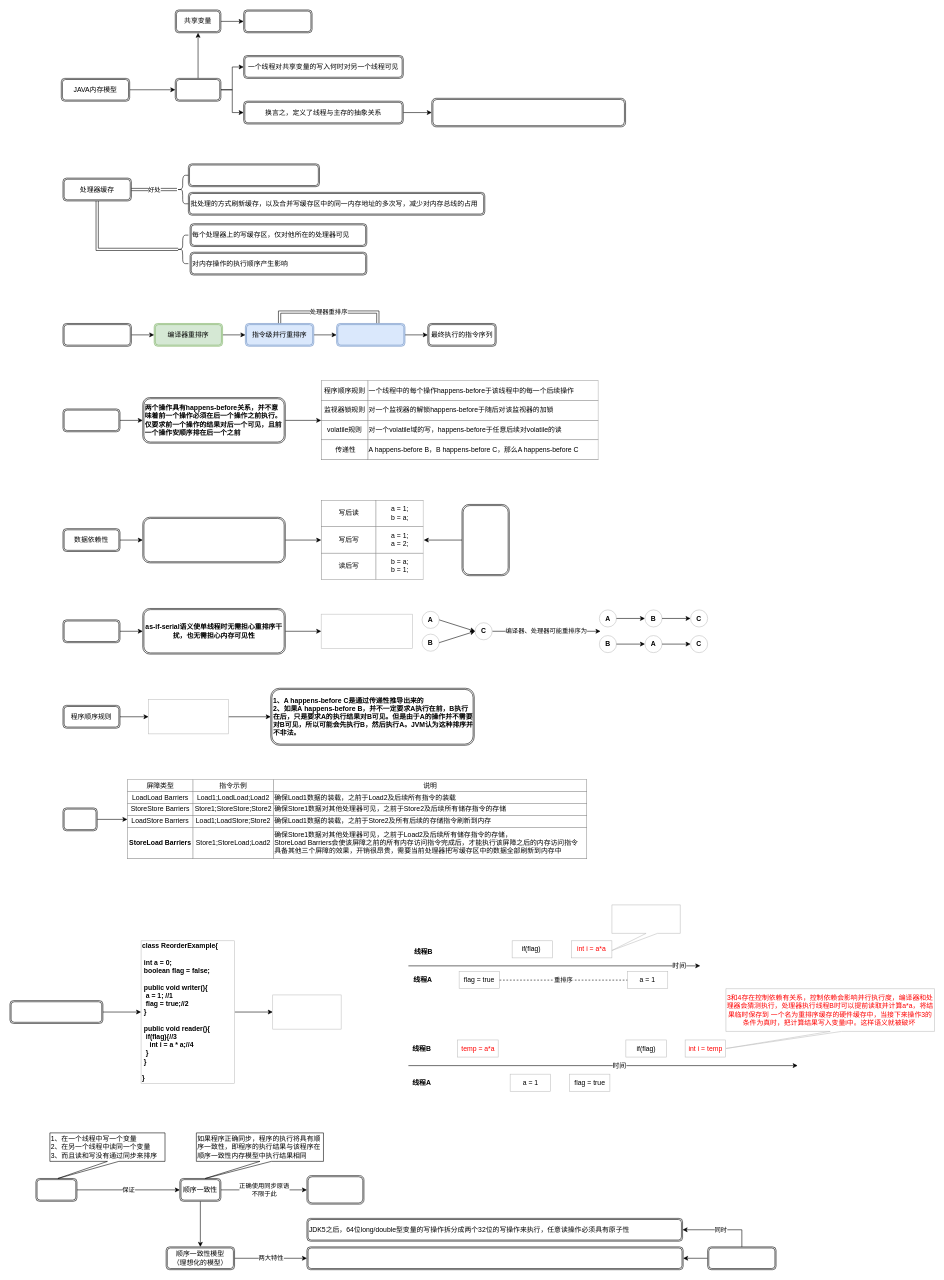
The diagram is 944 pixels wide and 1280 high, and some of its shapes have lost their labels. The shapes that lost their labels are listed below. From the top down, each one's centre as x and y in pixels, then its label:
At (x=277, y=21): "实例、数组、静态域".
At (x=198, y=89): "作用".
At (x=528, y=112): "线程之间的共享变量储存在主内存中，每个线程都有一个私有的本地内存，本地内存储存了线程可以读、写共享变量的副本".
At (x=253, y=175): "避免由于处理器停顿导致写入数据延迟".
At (x=96, y=334): "源代码".
At (x=370, y=334): "内存系统重排序".
At (x=91, y=420): "happens-before".
At (x=213, y=540): "这里所说的数据依赖性仅针对单个处理器中执行的指令序列和单线程中执行的操作，不同处理器之间和不同线程之间的数据依赖性不被编译器和处理器考虑".
At (x=485, y=540): "前边每两个操作顺序交换，则执行结果发生改变".
At (x=91, y=631): "as-if-serial".
At (x=366, y=631): "double pi = 3.14;//A dourble r = 1.0;//B dourble area = pi * r * r;//C".
At (x=188, y=716): "A happens-before B; B happens-before C; A happens-before C;".
At (x=79, y=819): "内存屏障".
At (x=645, y=927): "此时变量a还没有被线程A写入，语义被破坏".
At (x=56, y=1011): "并发情况下，重排序导致问题".
At (x=306, y=1011): "操作1和2没有数据依赖，3和4也没有数据依赖，所以可能产生重排序".
At (x=56, y=1189): "数据竞争".
At (x=335, y=1189): "synchronized volotile final".
At (x=494, y=1258): "1、一个线程中的所有操作必须按照程序的顺序来执行 2、（不管程序是否同步）所有线程都只能看到一个单一的操作执行顺序，每个操作必须原子执行且立刻对所有线程可见".
At (x=741, y=1258): "JMM不能对这两个特性做出保证".
